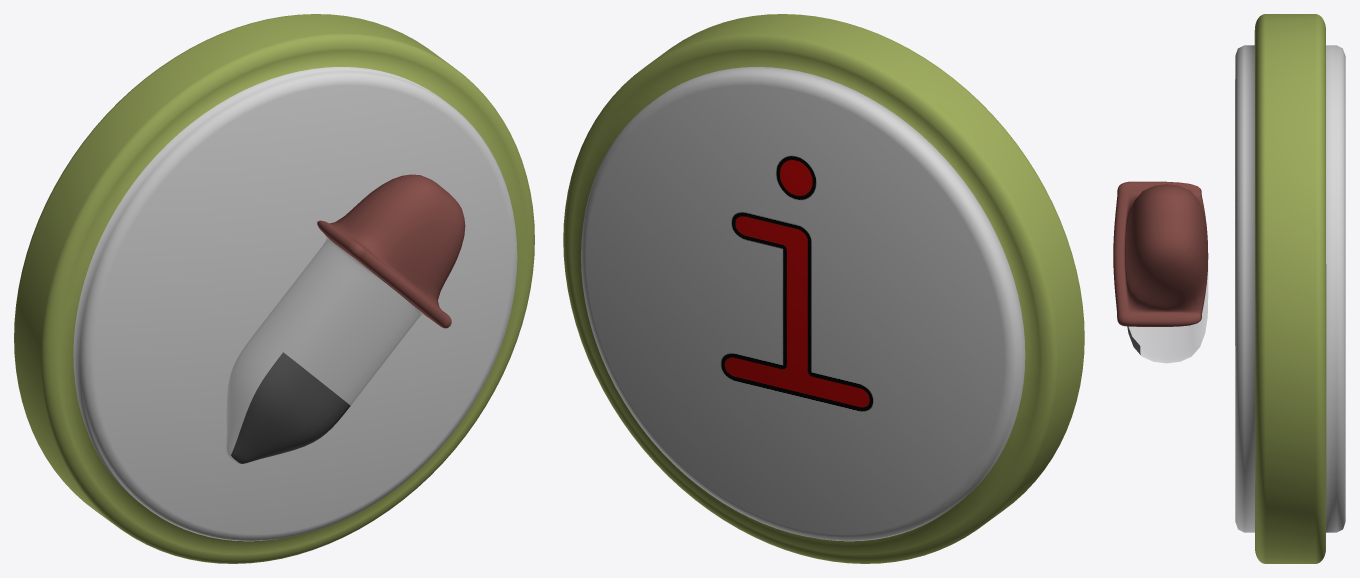
Rendered from ink2.gltf.
The picture shows the model from 3 angles, left to right: view 1: azimuth 30°, elevation 25°; view 2: azimuth 150°, elevation 25°; view 3: azimuth 270°, elevation 25°; orthographic projection. The views are drawn at different scales.
Visible parts, largest first — view 1: coin, Cube; view 2: coin; view 3: coin, Cube.
Part boxes in pixels (<box>): coin: <box>14,14,534,563</box>; Cube: <box>226,174,465,463</box>; coin: <box>563,14,1084,563</box>; coin: <box>1235,14,1345,563</box>; Cube: <box>1113,181,1208,363</box>.
Size of what is drawn, in the model's own units: 2.56 by 2.56 by 1.08.
Materials: 6 (1 with a texture image).
